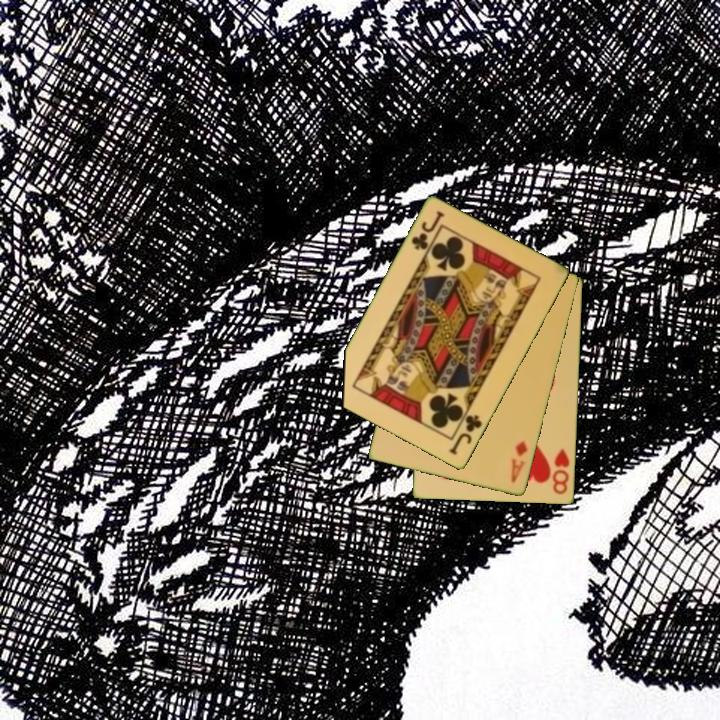8h: (549, 445, 573, 497)
Ad: (508, 437, 531, 486)
Jc: (446, 411, 485, 458), (408, 207, 447, 254)
